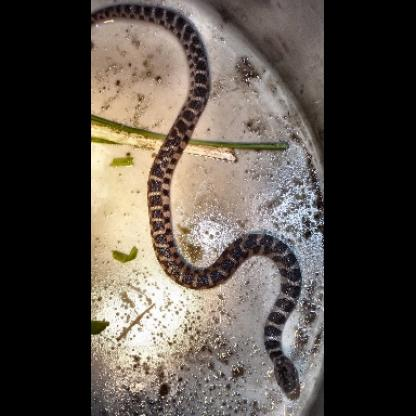Snake: (110, 4, 325, 406)
